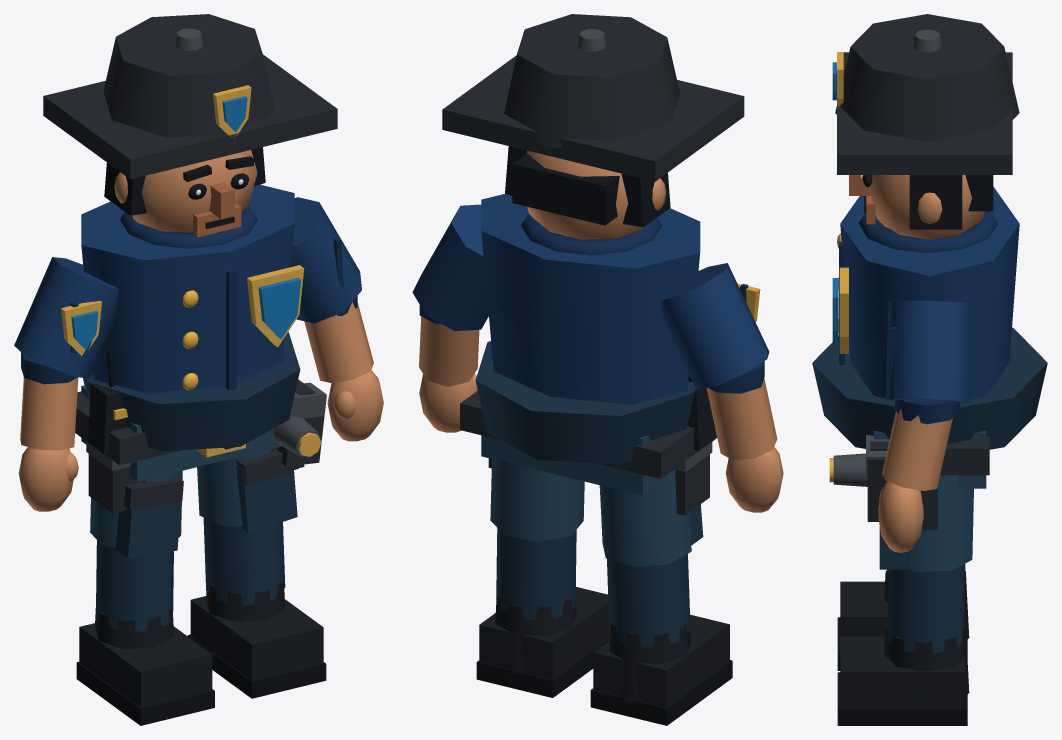
File: asset.glb
3 renders of one model, left to right at view 1: azimuth 30°, elevation 25°; view 2: azimuth 150°, elevation 25°; view 3: azimuth 270°, elevation 25°, orthographic. The views are drawn at different scales.
Visible parts, largest first — view 1: Shirt_Torso, Hat_Crown, Hat_Brim, Lower_Torso, Right_Boot_Toe, Left_Boot_Toe, Left_Short_Sleeve, Right_Short_Sleeve, Right_Shin, Left_Shin, Face, Left_Forearm (+32 smaller); view 2: Shirt_Torso, Hat_Crown, Hat_Brim, Lower_Torso, Left_Short_Sleeve, Right_Short_Sleeve, Left_Thigh, Right_Thigh, Left_Shin, Right_Shin, Left_Boot_Toe, Right_Boot_Toe (+17 smaller); view 3: Shirt_Torso, Hat_Crown, Lower_Torso, Right_Short_Sleeve, Hat_Brim, Right_Boot_Toe, Right_Shin, Right_Thigh, Right_Forearm, Face, Left_Boot_Toe, Right_Hand (+16 smaller).
Part boxes in pixels (x1,y1,x2,y2): Shirt_Torso: (81, 184, 294, 393); Hat_Crown: (103, 14, 274, 144); Hat_Brim: (43, 54, 337, 179); Lower_Torso: (83, 332, 300, 451); Right_Boot_Toe: (190, 596, 323, 680); Left_Boot_Toe: (79, 623, 212, 707); Left_Short_Sleeve: (14, 257, 119, 378); Right_Short_Sleeve: (291, 197, 361, 323); Right_Shin: (203, 518, 285, 605); Left_Shin: (95, 540, 173, 631); Face: (132, 150, 257, 232); Left_Forearm: (20, 377, 78, 450); Shirt_Torso: (481, 193, 700, 404); Hat_Crown: (504, 14, 679, 148); Hat_Brim: (442, 55, 744, 181); Lower_Torso: (475, 341, 695, 464); Left_Short_Sleeve: (661, 263, 769, 389); Right_Short_Sleeve: (412, 204, 488, 331); Left_Thigh: (599, 469, 691, 566); Right_Thigh: (490, 459, 584, 541); Left_Shin: (607, 554, 690, 647); Right_Shin: (496, 528, 576, 620); Left_Boot_Toe: (593, 614, 729, 707); Right_Boot_Toe: (479, 587, 610, 679); Shirt_Torso: (840, 186, 1019, 399); Hat_Crown: (835, 14, 1019, 141); Lower_Torso: (812, 327, 1047, 449); Right_Short_Sleeve: (886, 300, 971, 403); Hat_Brim: (837, 52, 1012, 174); Right_Boot_Toe: (840, 636, 964, 708); Right_Shin: (887, 564, 965, 653); Right_Thigh: (904, 475, 973, 571); Right_Forearm: (882, 408, 952, 490); Face: (869, 175, 984, 239); Left_Boot_Toe: (840, 581, 964, 636); Right_Hand: (878, 481, 923, 552).
Size of the model in its own units: 2.44 by 4.17 by 1.38.
